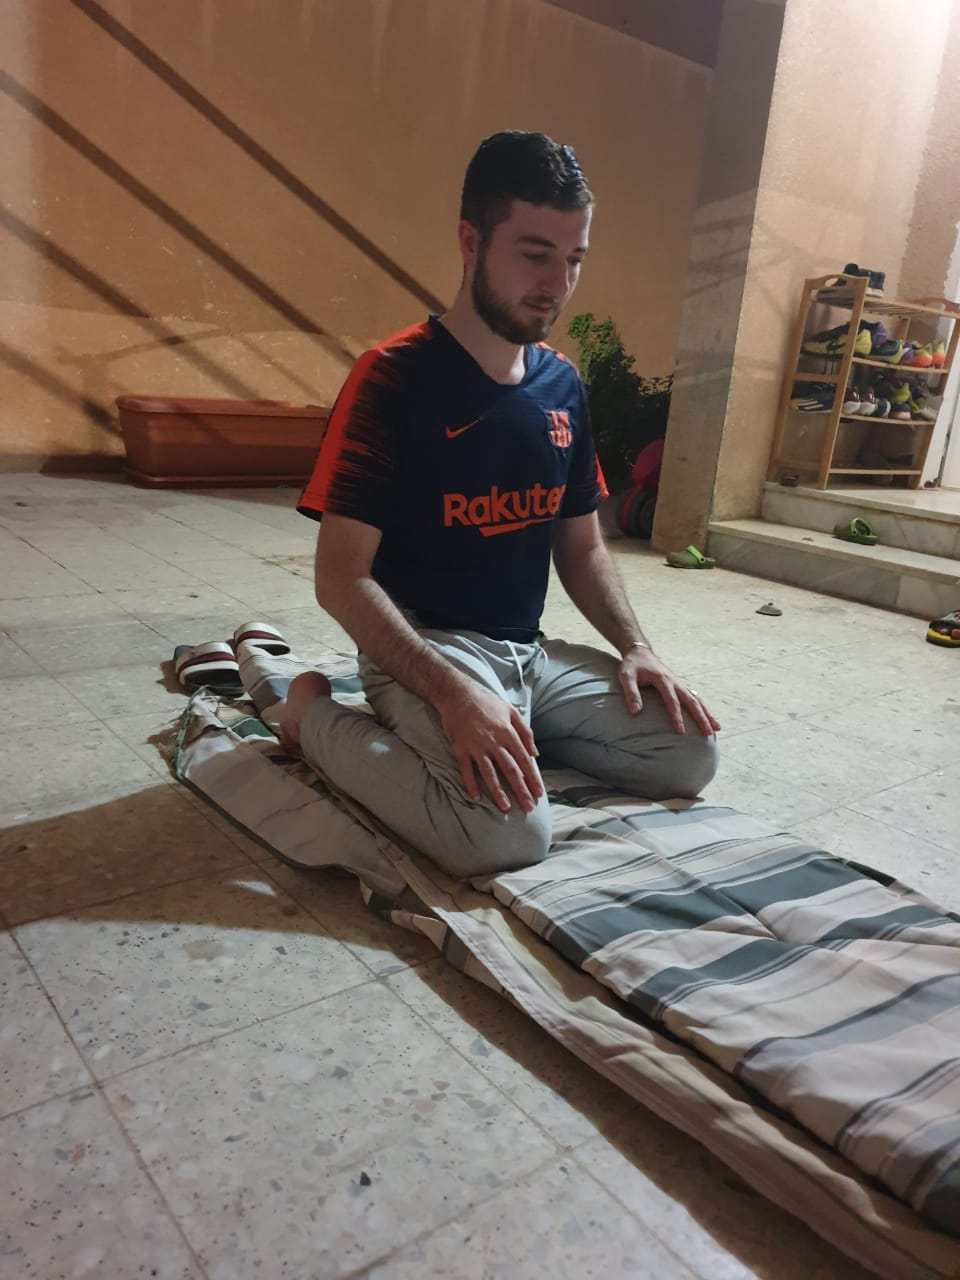sitting: (235, 111, 752, 884)
